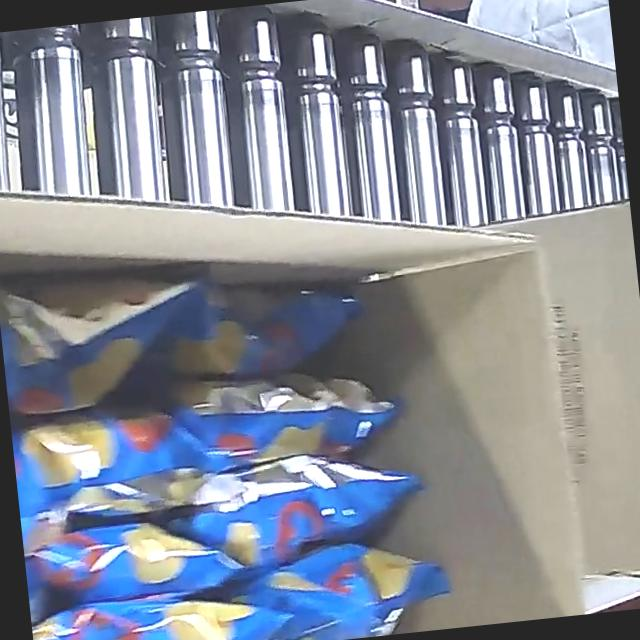paprika: (0, 239, 455, 640)
